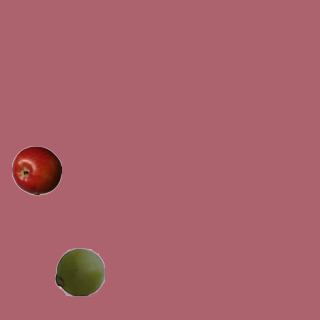Apple Braeburn: (11, 145, 61, 195)
Grape White 4: (54, 246, 104, 296)
